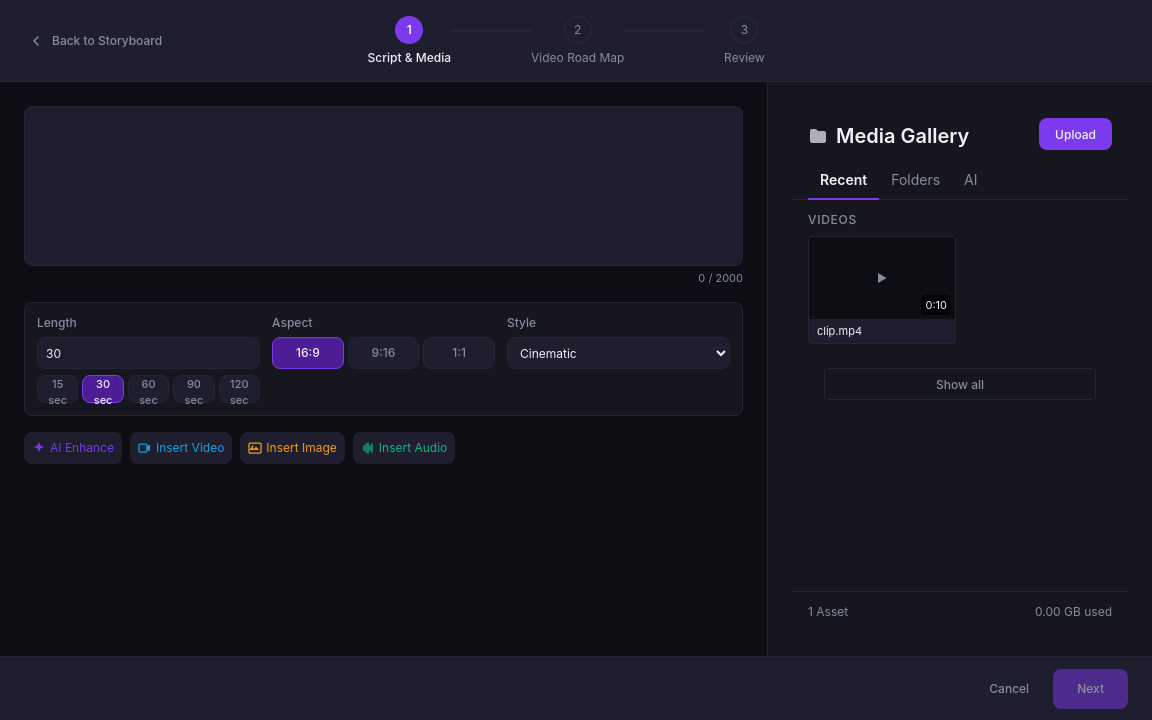
GenerateWizardPage — asset detail panel › clicking Add to Prompt closes the panel and returns to the gallery
Click the button "▶ 0:10 clip.mp4": (882, 290) [808, 236, 956, 344]
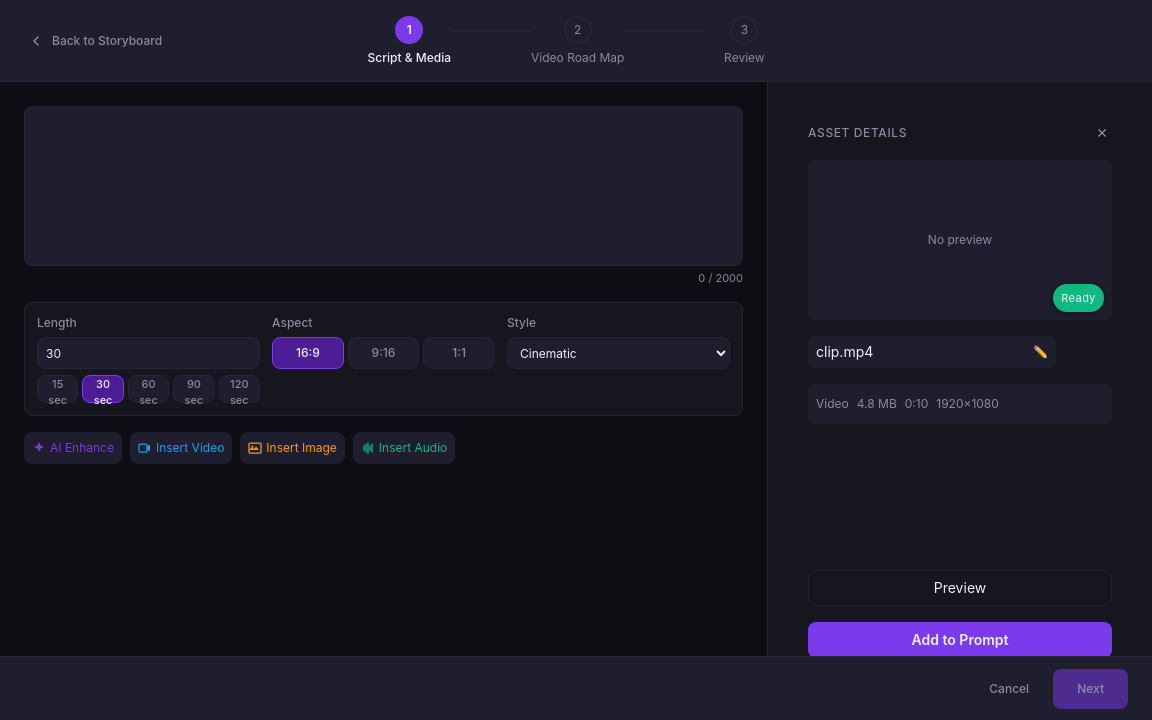
Check: the button "Add to Prompt" is shown
Click the button "Add to Prompt": (960, 640) [808, 622, 1112, 658]
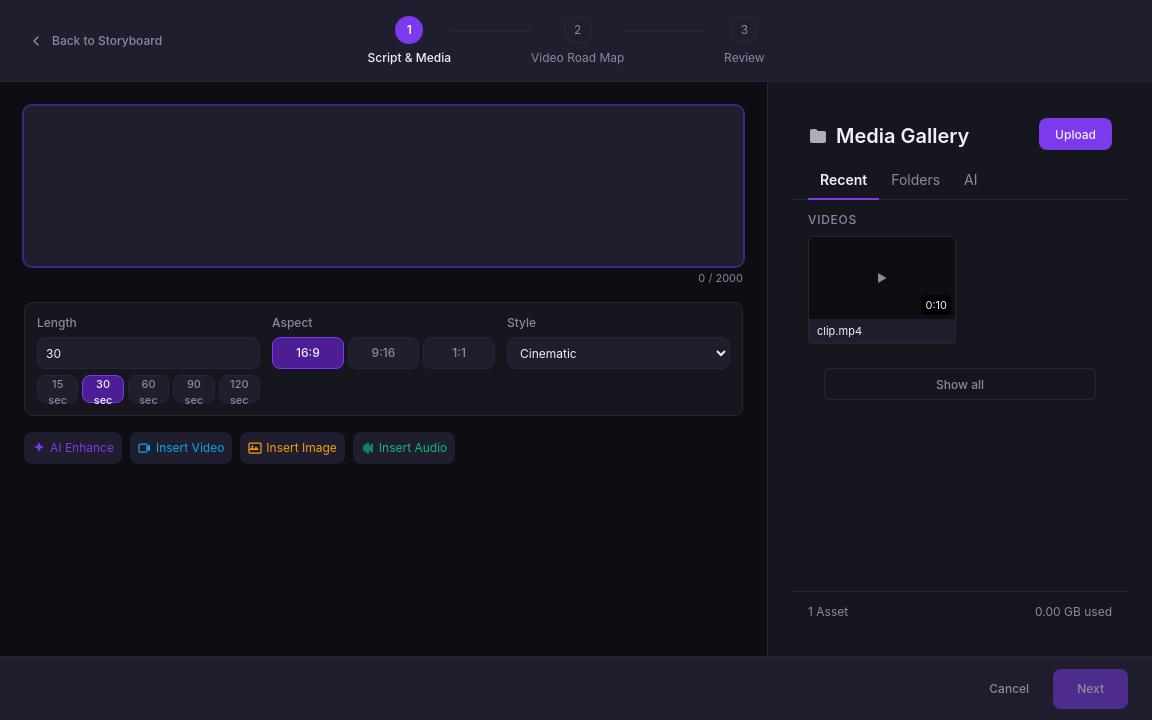
Check: the heading "Media Gallery" is shown, box [836, 122, 969, 150]
